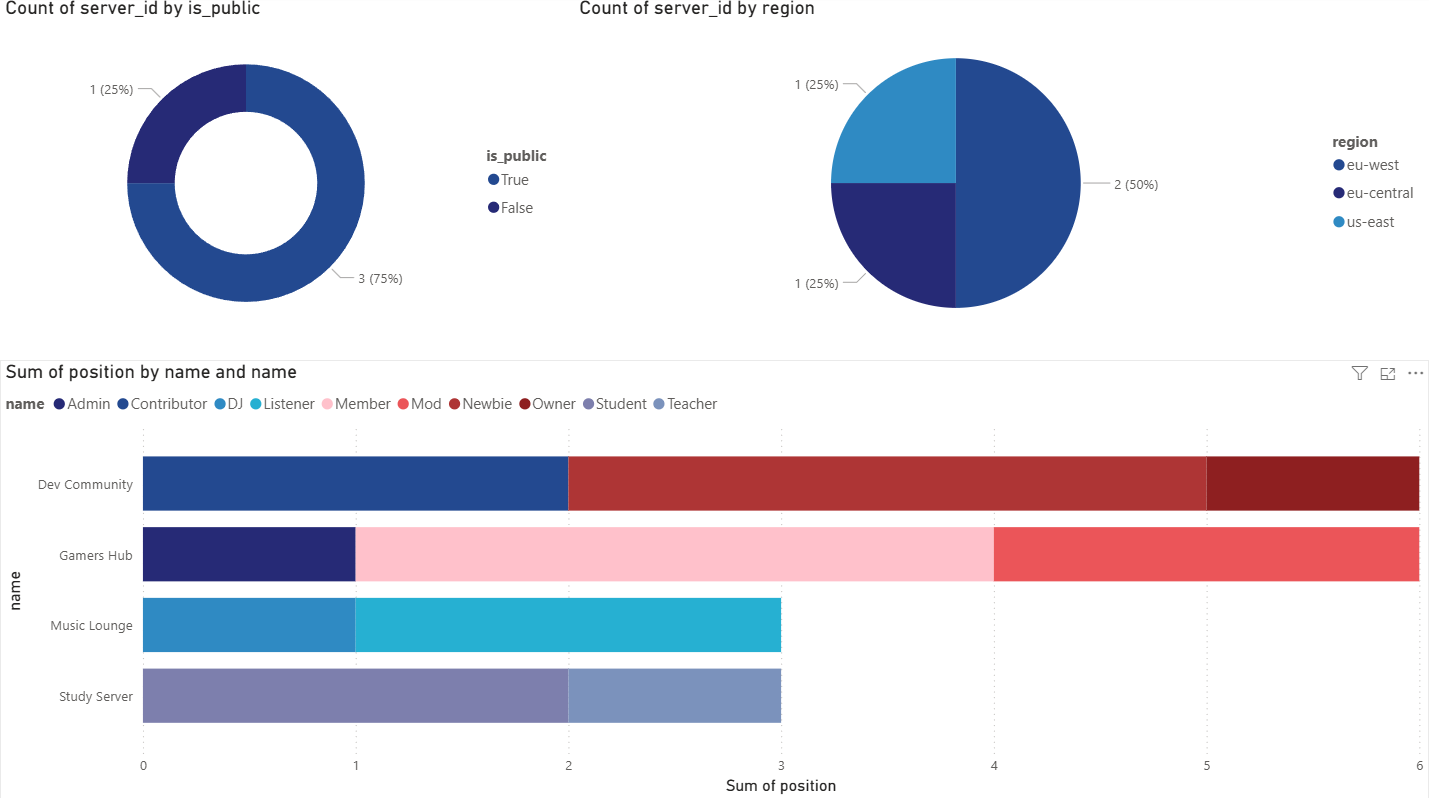

The dashboard page shown, as its layout file describes it:
{"tool":"powerbi","page":{"name":"Page 1","canvas":[1280,720],"ordinal":1},"visuals":[{"type":"donutChart","fields":{"Category":["Server.is_public"],"Y":["CountNonNull(Server.server_id)"]},"box":[0,0,513.6,316.1],"z":0},{"type":"barChart","fields":{"Category":["Server.name"],"Y":["Sum(Role.position)"],"Series":["Role.name"]},"box":[0,325.7,1280,394.7],"z":1000},{"type":"pieChart","fields":{"Category":["Server.region"],"Y":["CountNonNull(Server.server_id)"]},"box":[514,0,766,316],"z":2000}]}

Visuals, with their boxes in screenshot pixels (x1, y1, x2, y2), scaled from the page's 1280x720 canvas onto the 1429x798 screenshot:
donutChart - Server.is_public x CountNonNull(Server.server_id): Rect(0, 0, 573, 350)
barChart - Server.name x Sum(Role.position): Rect(0, 361, 1428, 797)
pieChart - Server.region x CountNonNull(Server.server_id): Rect(574, 0, 1428, 350)
